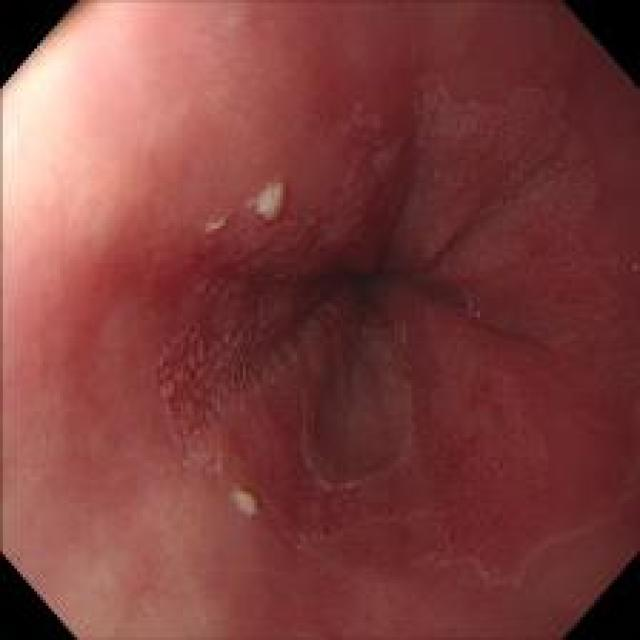bubbles: (458, 298, 492, 329), (351, 318, 380, 346)
saturation: (2, 14, 111, 240)
